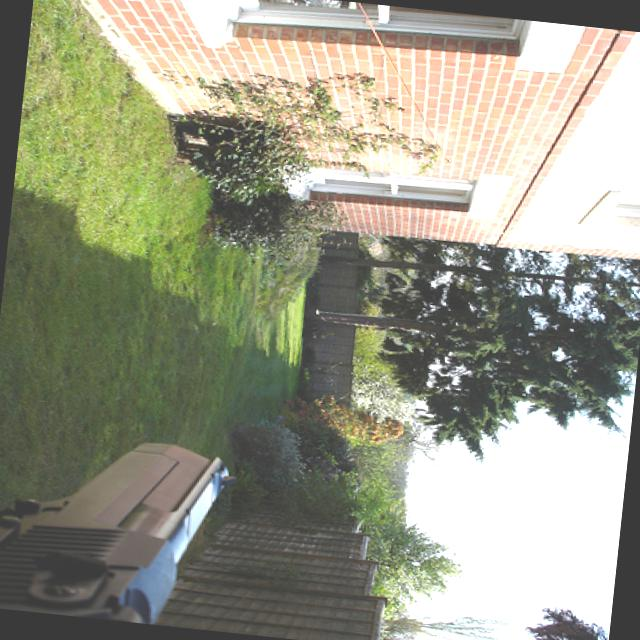handgun: (0, 420, 245, 629)
